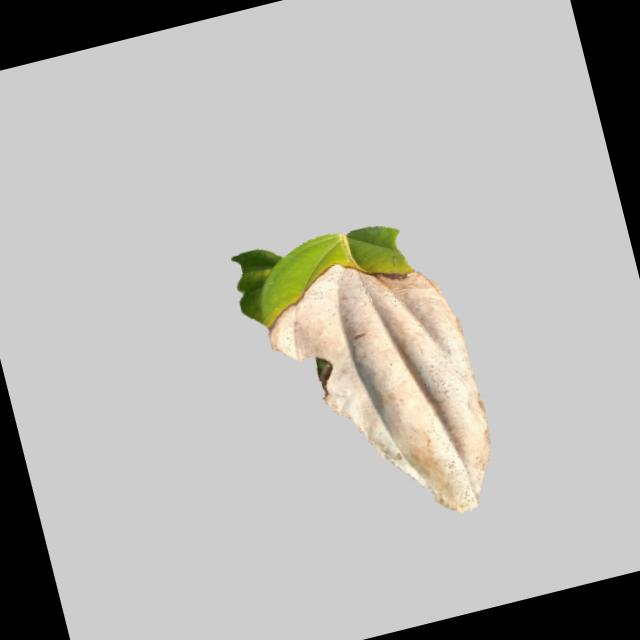leaf-blight: (226, 203, 516, 552)
